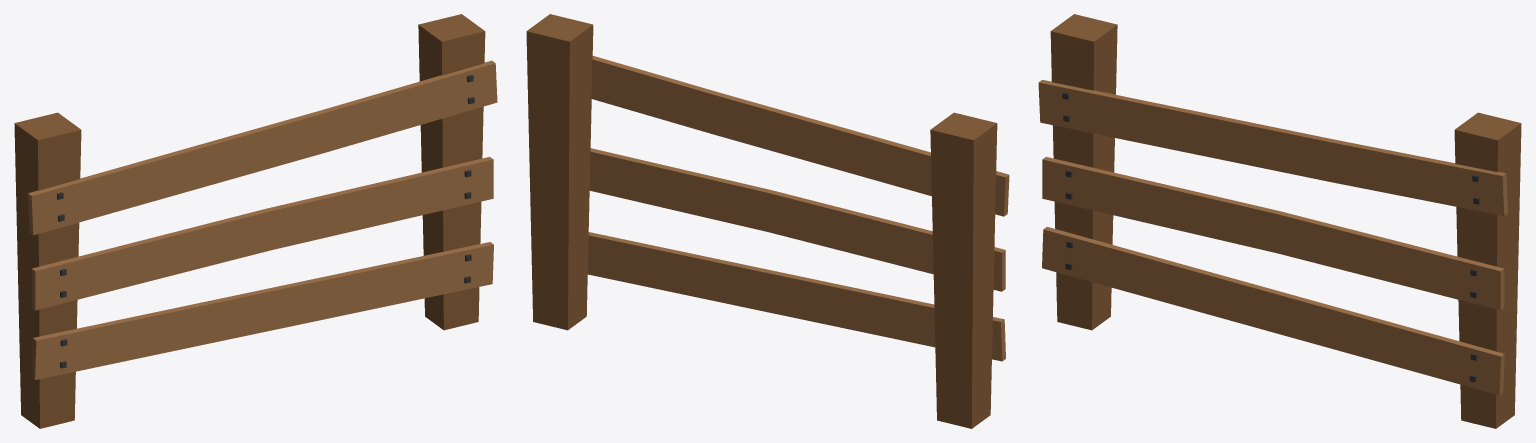
File: GarderFence_02.fbx
3 renders of one model, left to right at view 1: azimuth 30°, elevation 25°; view 2: azimuth 150°, elevation 25°; view 3: azimuth 330°, elevation 25°, orthographic.
Parts seen in each view (by area): view 1: GarderFence_02; view 2: GarderFence_02; view 3: GarderFence_02.
Part boxes in pixels (x1=…): GarderFence_02: x1=14, y1=14, x2=497, y2=428; GarderFence_02: x1=526, y1=14, x2=1009, y2=428; GarderFence_02: x1=1038, y1=14, x2=1521, y2=428.
Size of the model in its own units: 150 by 89.65 by 15.51.
